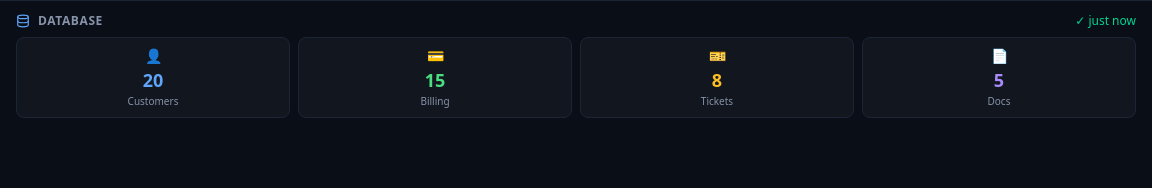
Test: DatabaseStatus › shows 'No records' when the expanded table has zero rows
Step 1. Click the text "Customers" → (153, 101), box left=128, top=94, right=178, bottom=108
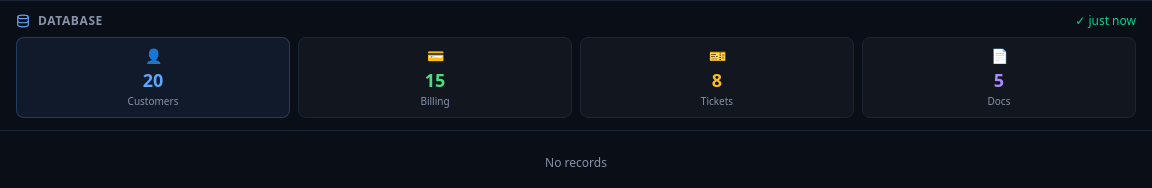
Check: the text "No records" is shown, box left=545, top=154, right=607, bottom=171
